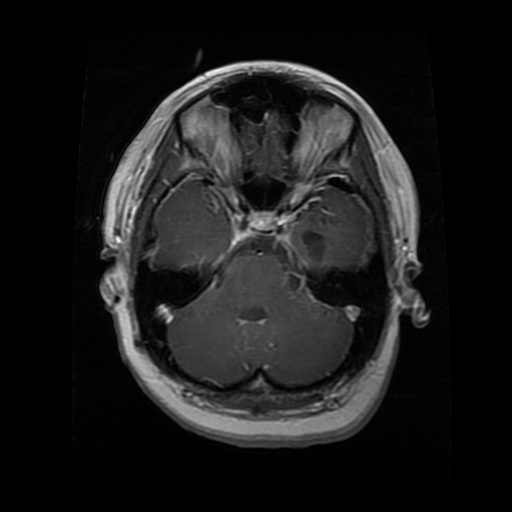glioma: (300, 227, 331, 268)
